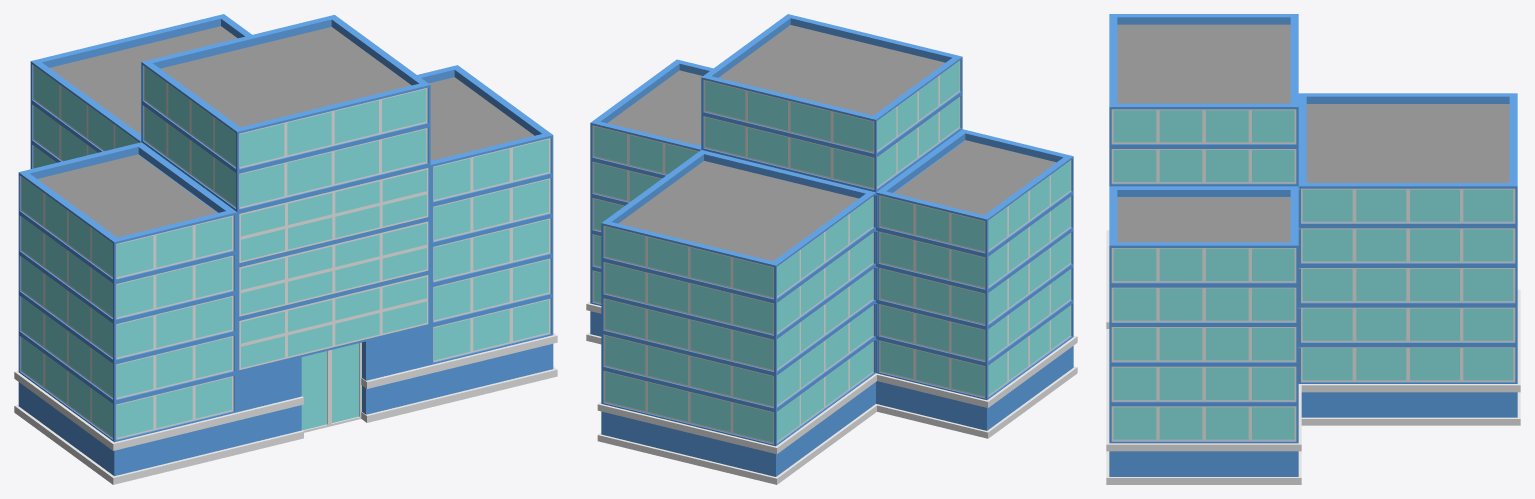
Rendered from SM_House_14_04.FBX.
3 views of the same model, side by side, from view 1: azimuth 30°, elevation 25°; view 2: azimuth 150°, elevation 25°; view 3: azimuth 270°, elevation 25° (orthographic). The views are drawn at different scales.
Visible parts, largest first — view 1: SM_House_14_04; view 2: SM_House_14_04; view 3: SM_House_14_04.
Boxes of the visible parts, x1,y1,x2,y2 form: SM_House_14_04: [14, 14, 557, 484]; SM_House_14_04: [586, 14, 1077, 484]; SM_House_14_04: [1106, 14, 1520, 484].
Size of the model in its own units: 11.59 by 8 by 9.47.
Materials: 1 (1 with a texture image).
